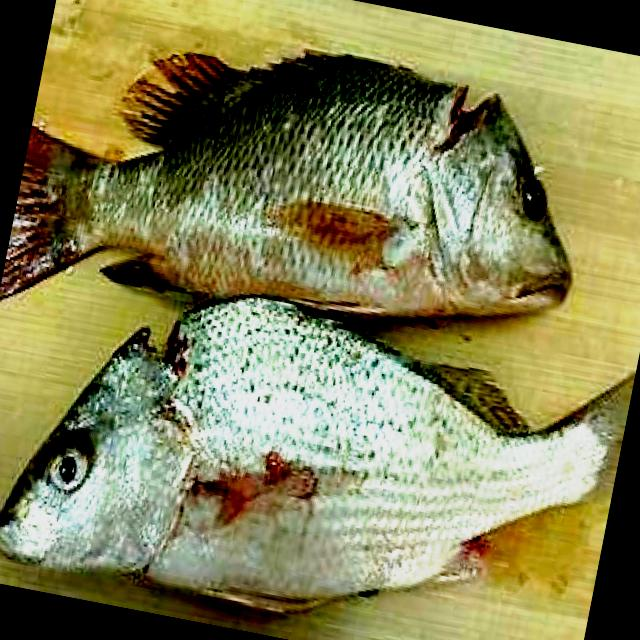Epizootic Ulcerative Syndrome -EUS-: (0, 297, 634, 610), (0, 50, 571, 318)
